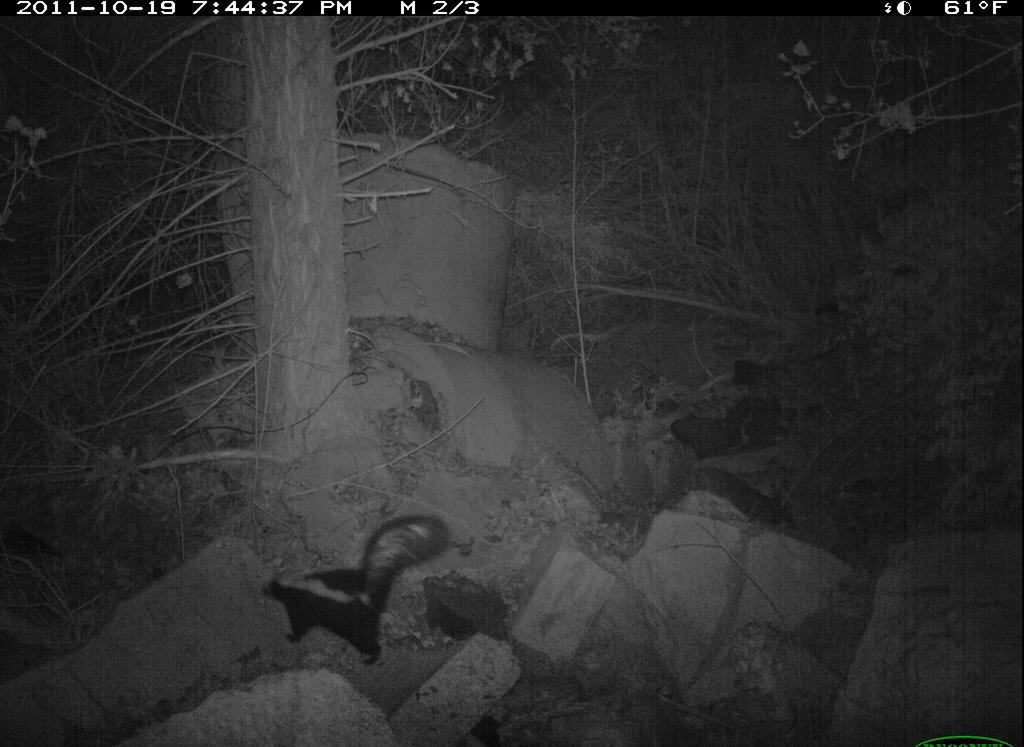skunk: (255, 513, 460, 676)
